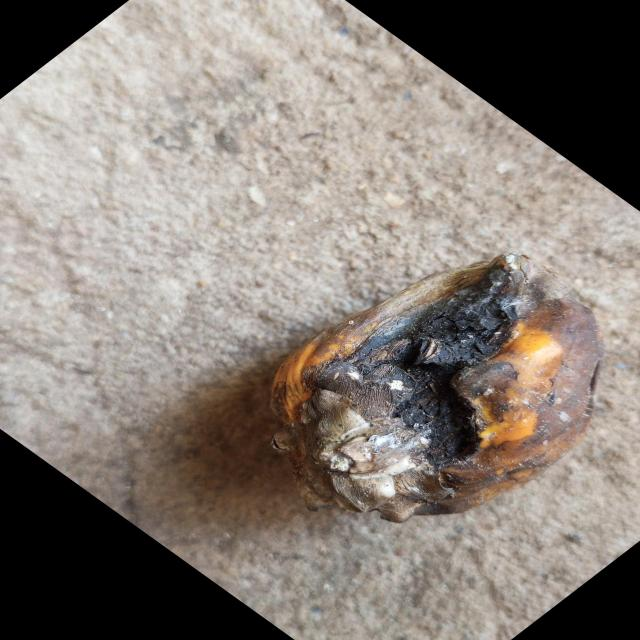damaged: (270, 254, 601, 525)
